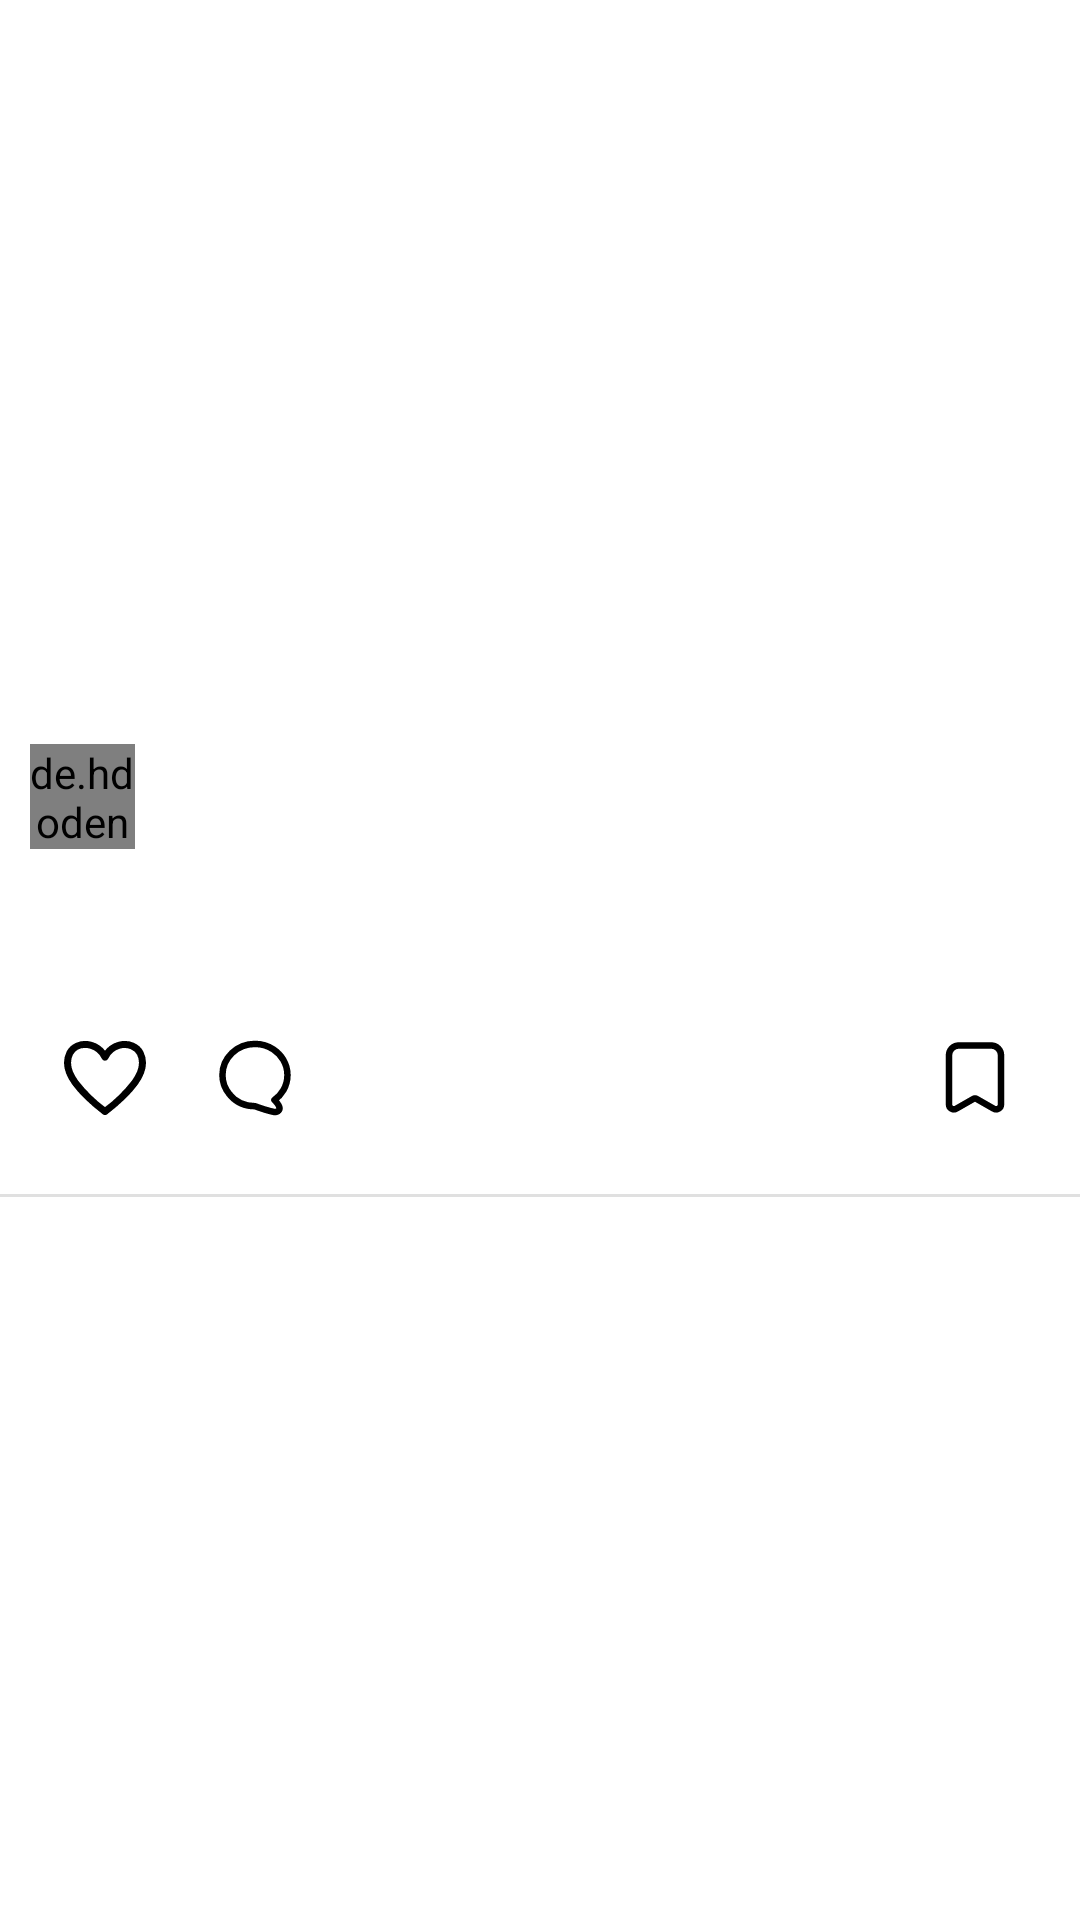

Named icons in this screenshot (1080x1920) and their bounding boxes, Rect(x1, y1, x2, y2):
comment: Rect(219, 1040, 291, 1116)
heart: Rect(64, 1041, 146, 1115)
save: Rect(945, 1042, 1005, 1113)
